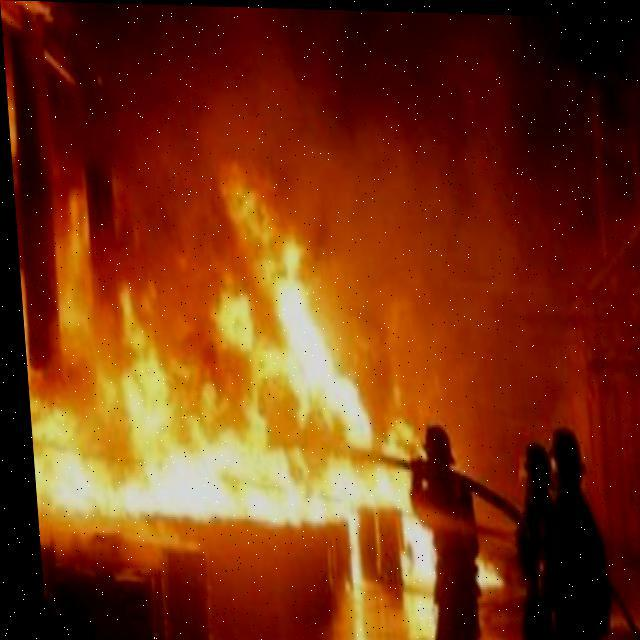Fire: (9, 156, 493, 596)
